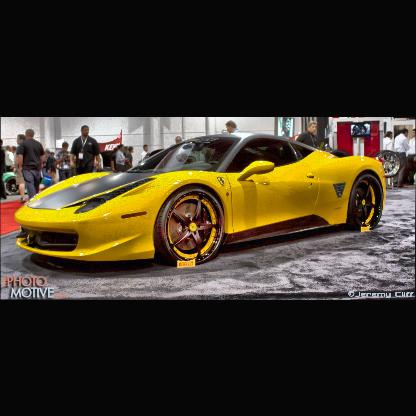Ferrari 458 Italia Coupe 2012: (11, 128, 390, 274)
